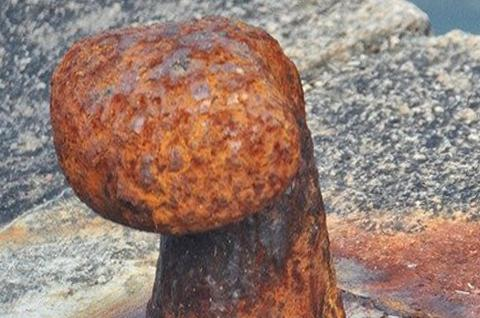rust: (40, 27, 321, 236)
